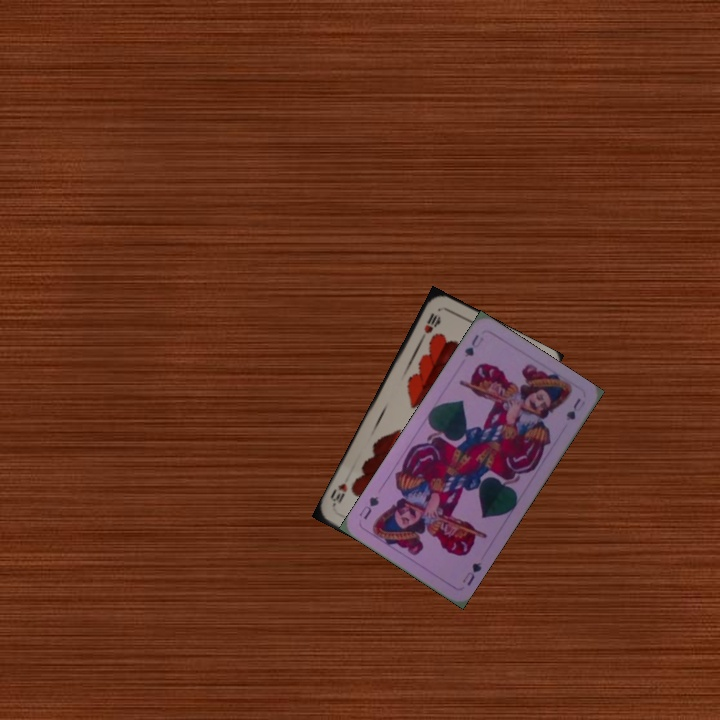GU: (458, 558, 484, 589), (460, 330, 486, 360)
H10: (417, 309, 442, 343)
